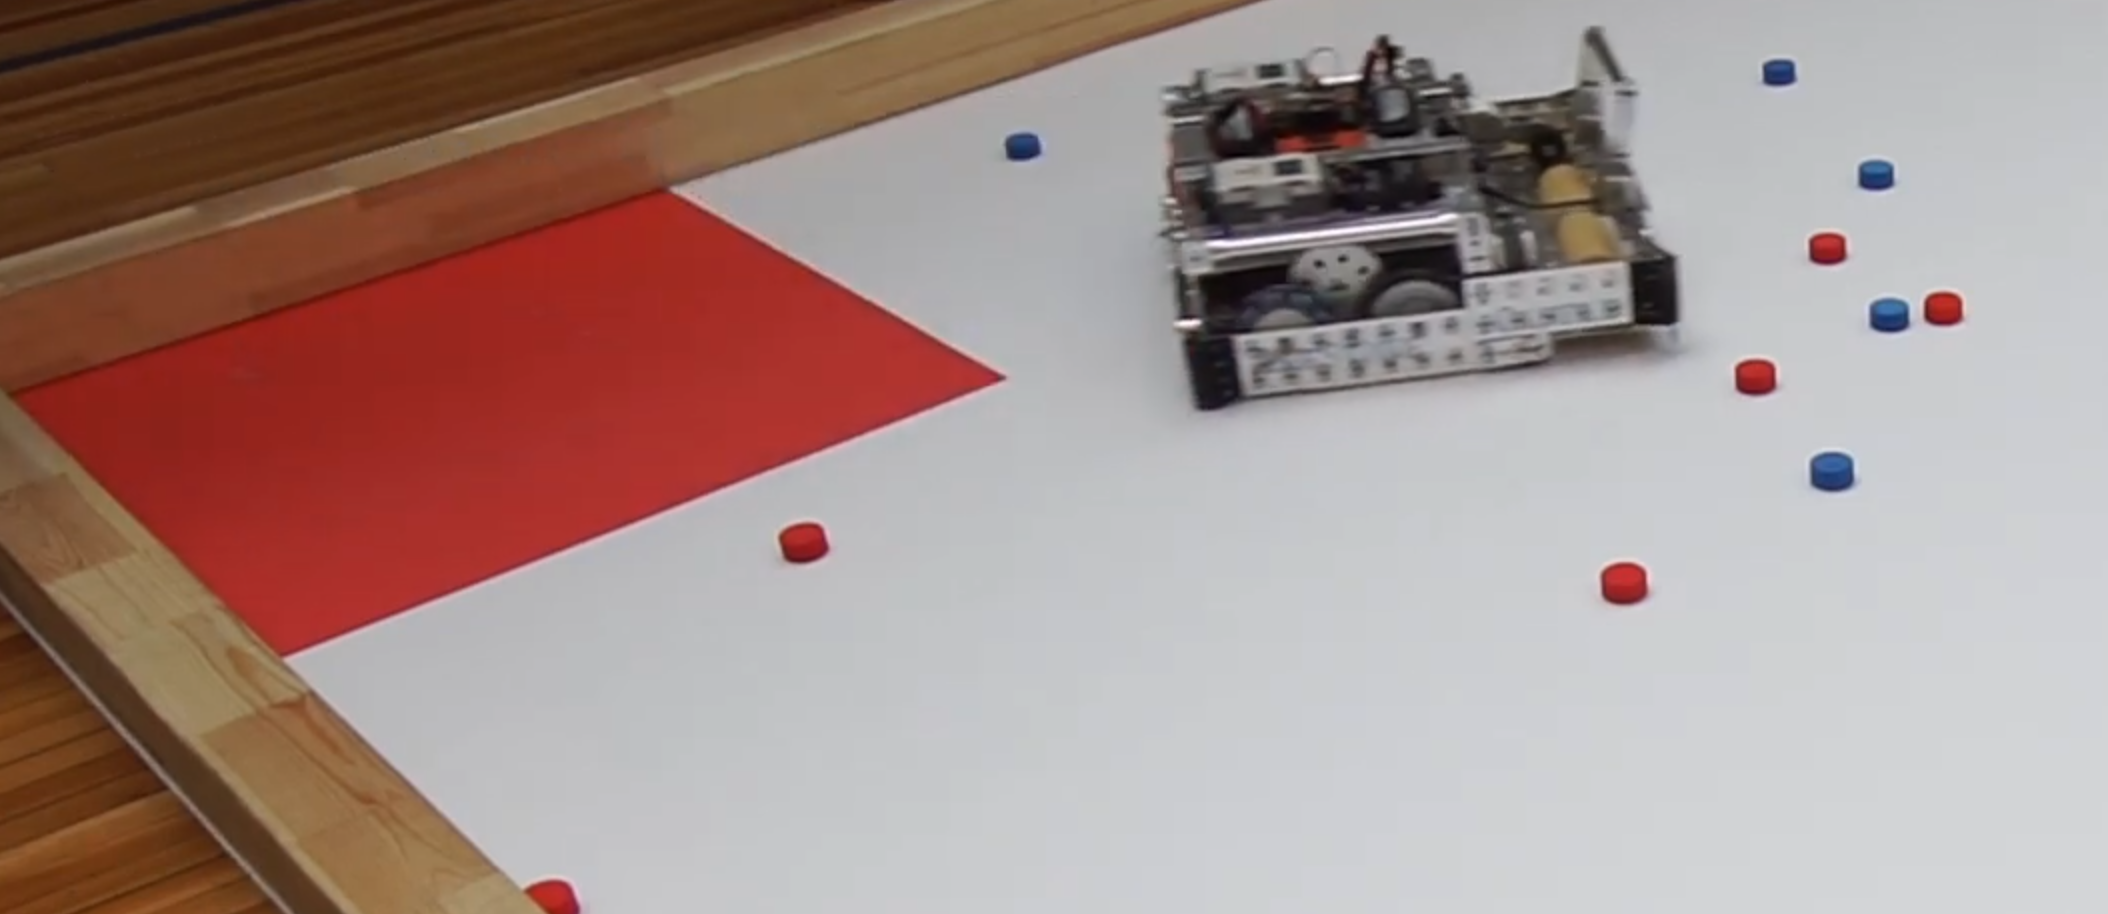base: (8, 187, 1010, 663)
puck: (776, 522, 829, 565), (1810, 448, 1857, 495), (1603, 560, 1647, 608), (1733, 358, 1783, 399), (1922, 288, 1964, 331), (1867, 296, 1910, 333), (1806, 234, 1849, 265), (1858, 156, 1894, 192), (1762, 56, 1799, 87), (1002, 132, 1041, 159)
